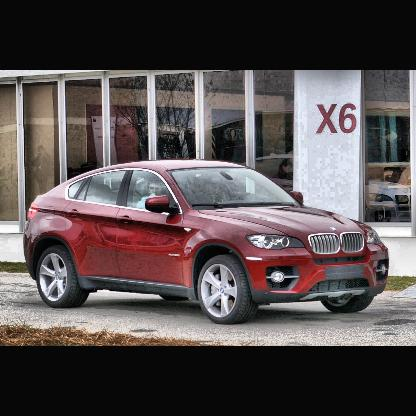BMW X6 SUV 2012: (23, 162, 389, 325)
